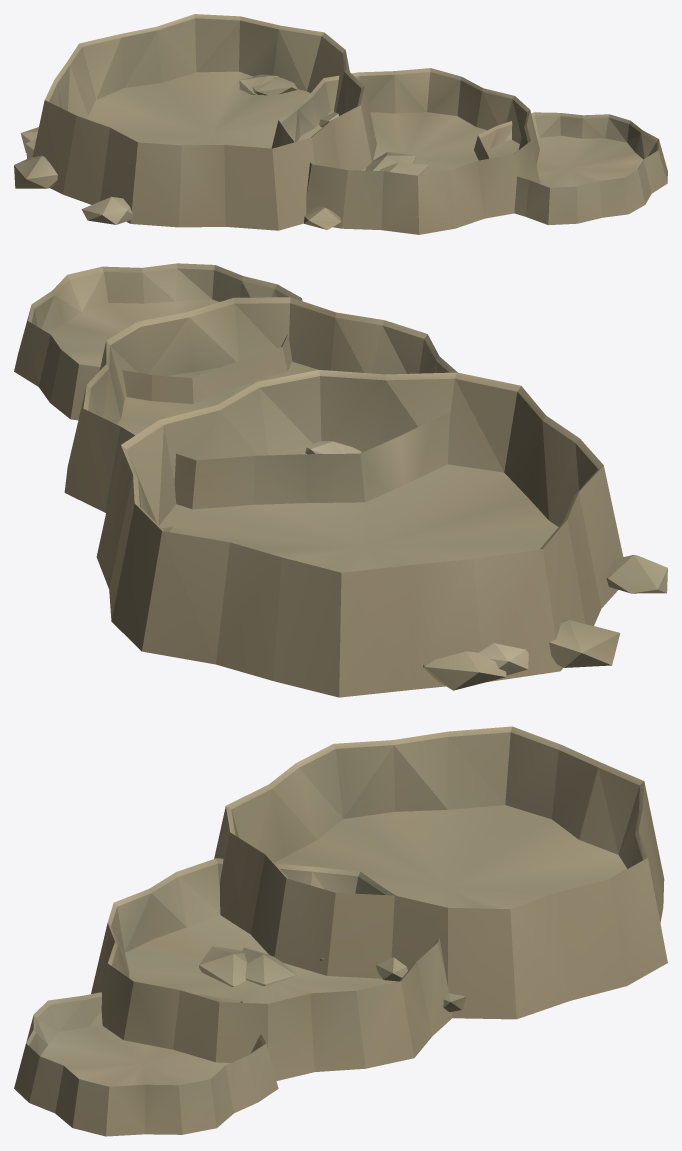
Rendered from hot_spring_rim.glb.
3 views of the same model, one above another, from view 1: azimuth 30°, elevation 25°; view 2: azimuth 150°, elevation 25°; view 3: azimuth 270°, elevation 25° (orthographic). The views are drawn at different scales.
Parts seen in each view (by area): view 1: hot_spring_rim; view 2: hot_spring_rim; view 3: hot_spring_rim.
Boxes of the visible parts, x1=… form: hot_spring_rim: x1=14, y1=14, x2=667, y2=234; hot_spring_rim: x1=14, y1=263, x2=667, y2=697; hot_spring_rim: x1=14, y1=726, x2=667, y2=1136.
Size of the model in its own units: 4.16 by 0.59 by 3.45.
